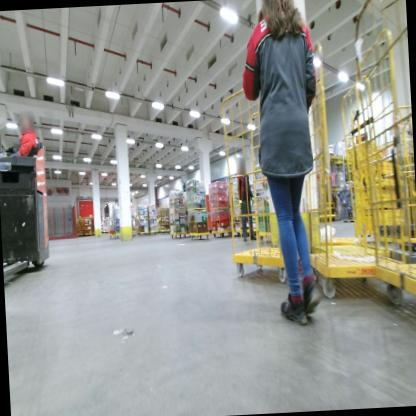pallet: (340, 216, 357, 225), (325, 150, 333, 161), (335, 152, 344, 159), (330, 183, 337, 189), (333, 216, 338, 223), (343, 153, 348, 158), (338, 216, 342, 222)
pallet_truck: (0, 123, 62, 292)
small_load_carrier: (207, 191, 228, 203), (208, 182, 229, 192), (211, 203, 231, 213), (209, 212, 231, 221), (213, 217, 232, 227), (210, 200, 227, 208)
